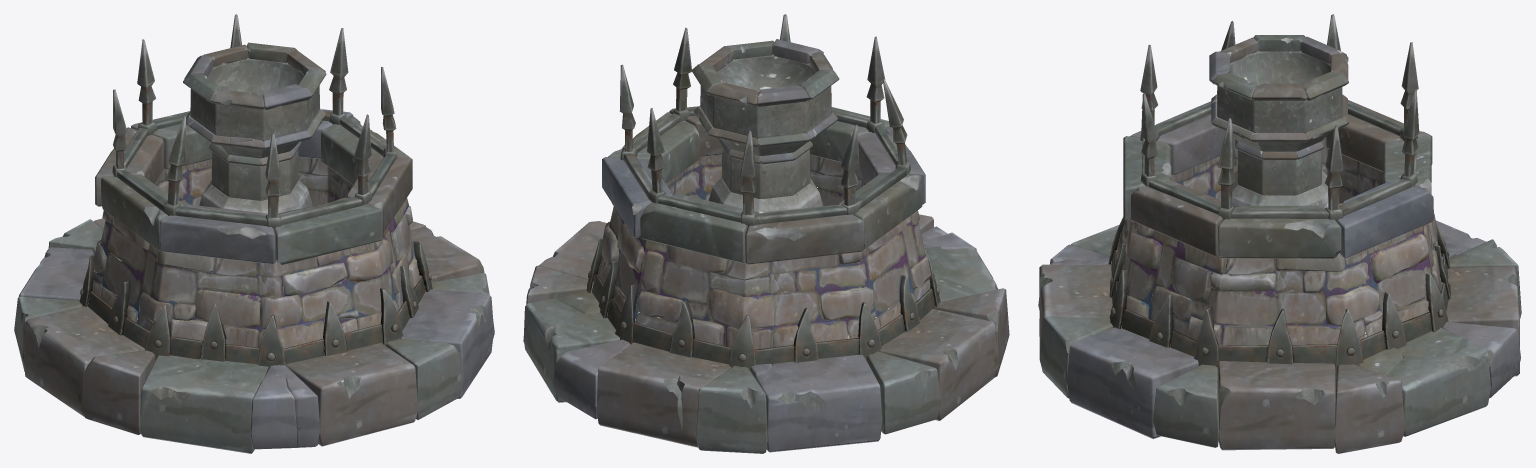
The picture shows the model from 3 angles, left to right: view 1: azimuth 30°, elevation 25°; view 2: azimuth 150°, elevation 25°; view 3: azimuth 270°, elevation 25°; orthographic projection. The views are drawn at different scales.
Parts seen in each view (by area): view 1: SM_Fellhollow_Purification_Pool_01_LOD0; view 2: SM_Fellhollow_Purification_Pool_01_LOD0; view 3: SM_Fellhollow_Purification_Pool_01_LOD0.
Part boxes in pixels (x1,y1,x2,y2): SM_Fellhollow_Purification_Pool_01_LOD0: (14,14,494,453); SM_Fellhollow_Purification_Pool_01_LOD0: (523,14,1009,453); SM_Fellhollow_Purification_Pool_01_LOD0: (1038,14,1521,453).
Size of the model in its own units: 2.8 by 1.91 by 2.8.
Materials: 4 (3 with a texture image).
